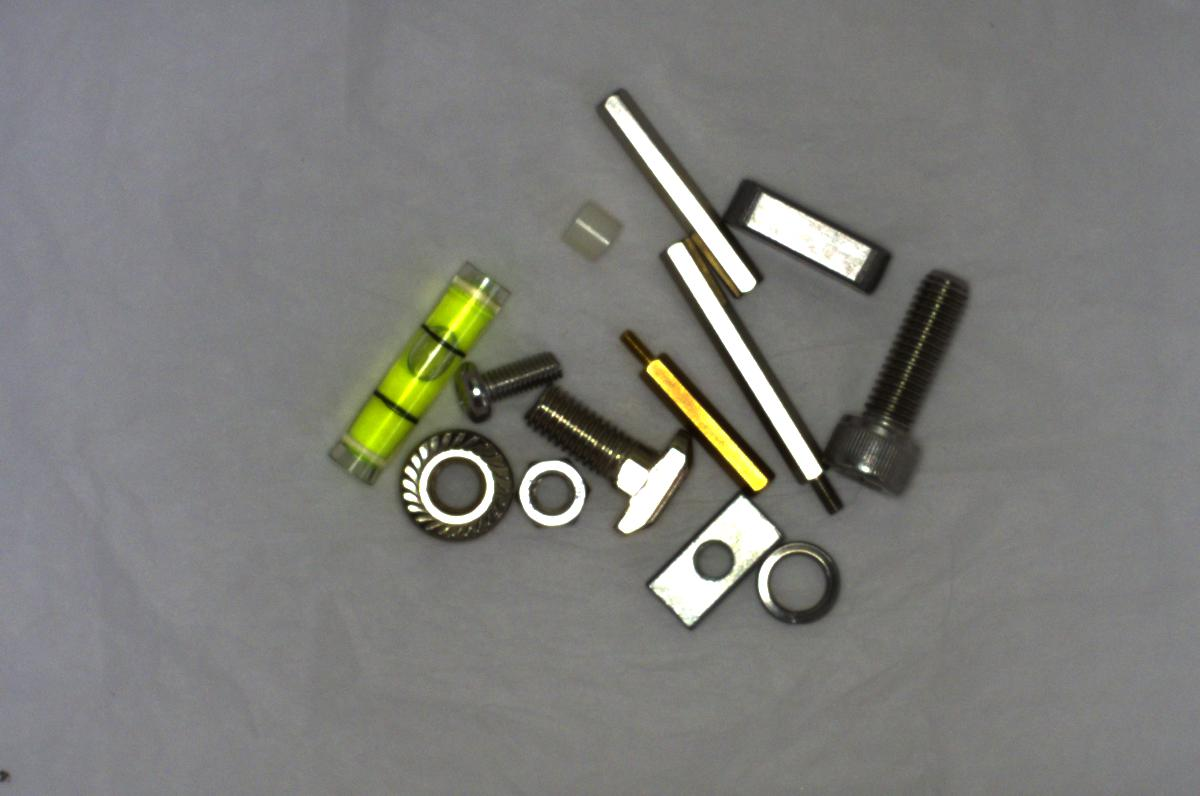Double hexagonal column: (596, 85, 762, 303)
Flange nut: (389, 429, 523, 547)
Hexagon nut: (510, 451, 592, 530)
Hexagon pillar: (617, 325, 775, 500)
Hexagon screw: (815, 262, 982, 500)
Hexagonal steel column: (658, 236, 848, 520)
Horizontal bubble: (320, 246, 512, 486)
Keybar: (726, 176, 896, 299)
Plastic cushion pillar: (552, 196, 626, 264)
Rectangular nut: (631, 490, 787, 634)
Round head screw: (432, 339, 570, 419)
Spring washer: (743, 535, 850, 623)
T-shaped screw: (511, 378, 696, 532)
